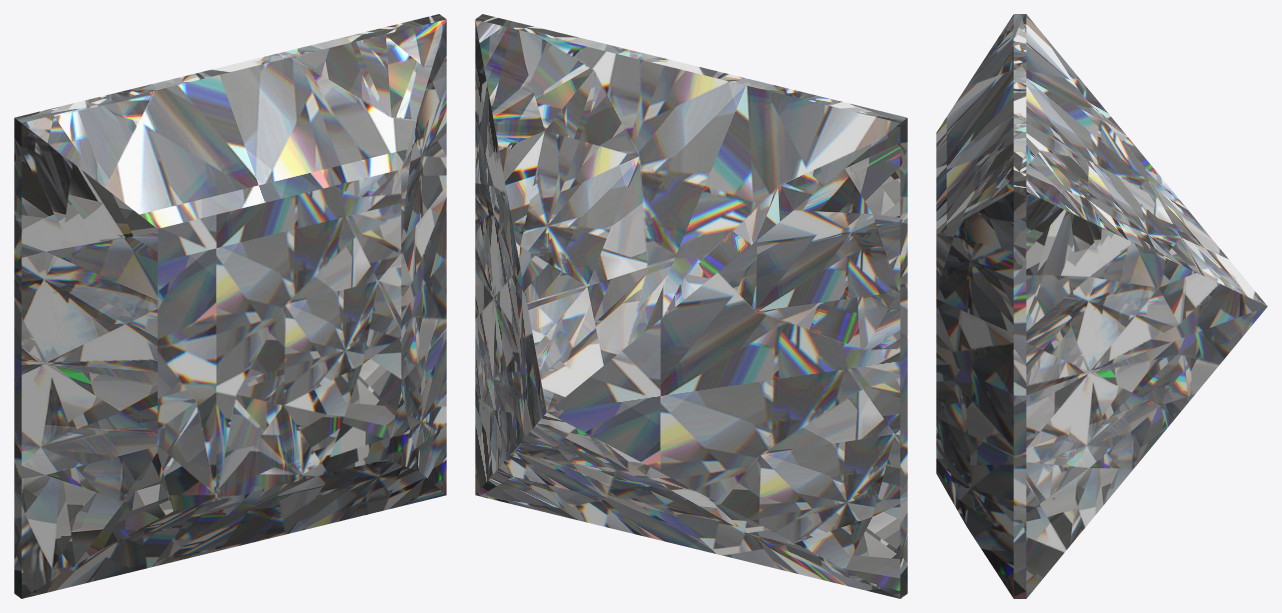
File: Square Diamond.glb
3 views of the same model, side by side, from view 1: azimuth 30°, elevation 25°; view 2: azimuth 150°, elevation 25°; view 3: azimuth 270°, elevation 25° (orthographic). The views are drawn at different scales.
Visible parts, largest first — view 1: Square_Diamond; view 2: Square_Diamond; view 3: Square_Diamond.
Boxes of the visible parts, <box> form: Square_Diamond: <box>14,14,446,598</box>; Square_Diamond: <box>475,14,907,598</box>; Square_Diamond: <box>936,14,1267,598</box>.
Bounding box in the file's own units: 0.00587 × 0.00628 × 0.00463.
Materials: 1 (1 with a texture image).
